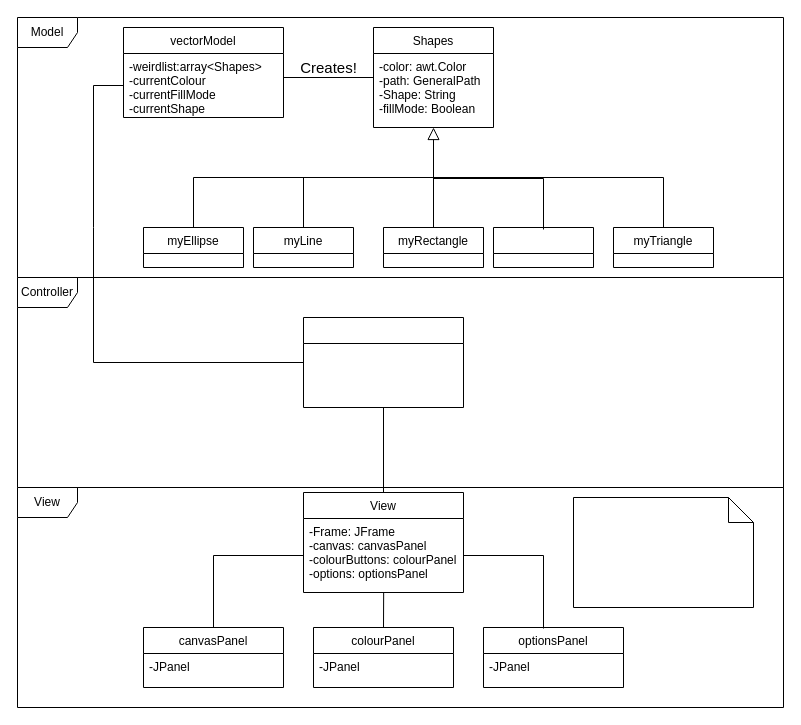
The diagram is 801 pixels wide and 725 high, and some of its shapes have lost their labels. Each missing label, with the centre of its shape:
"myDiagonalCross" belongs at (543,247).
"The view is a jFrame with one of each of these JPanels on its content pane!" belongs at (663,552).
"VectorController" belongs at (383,362).
